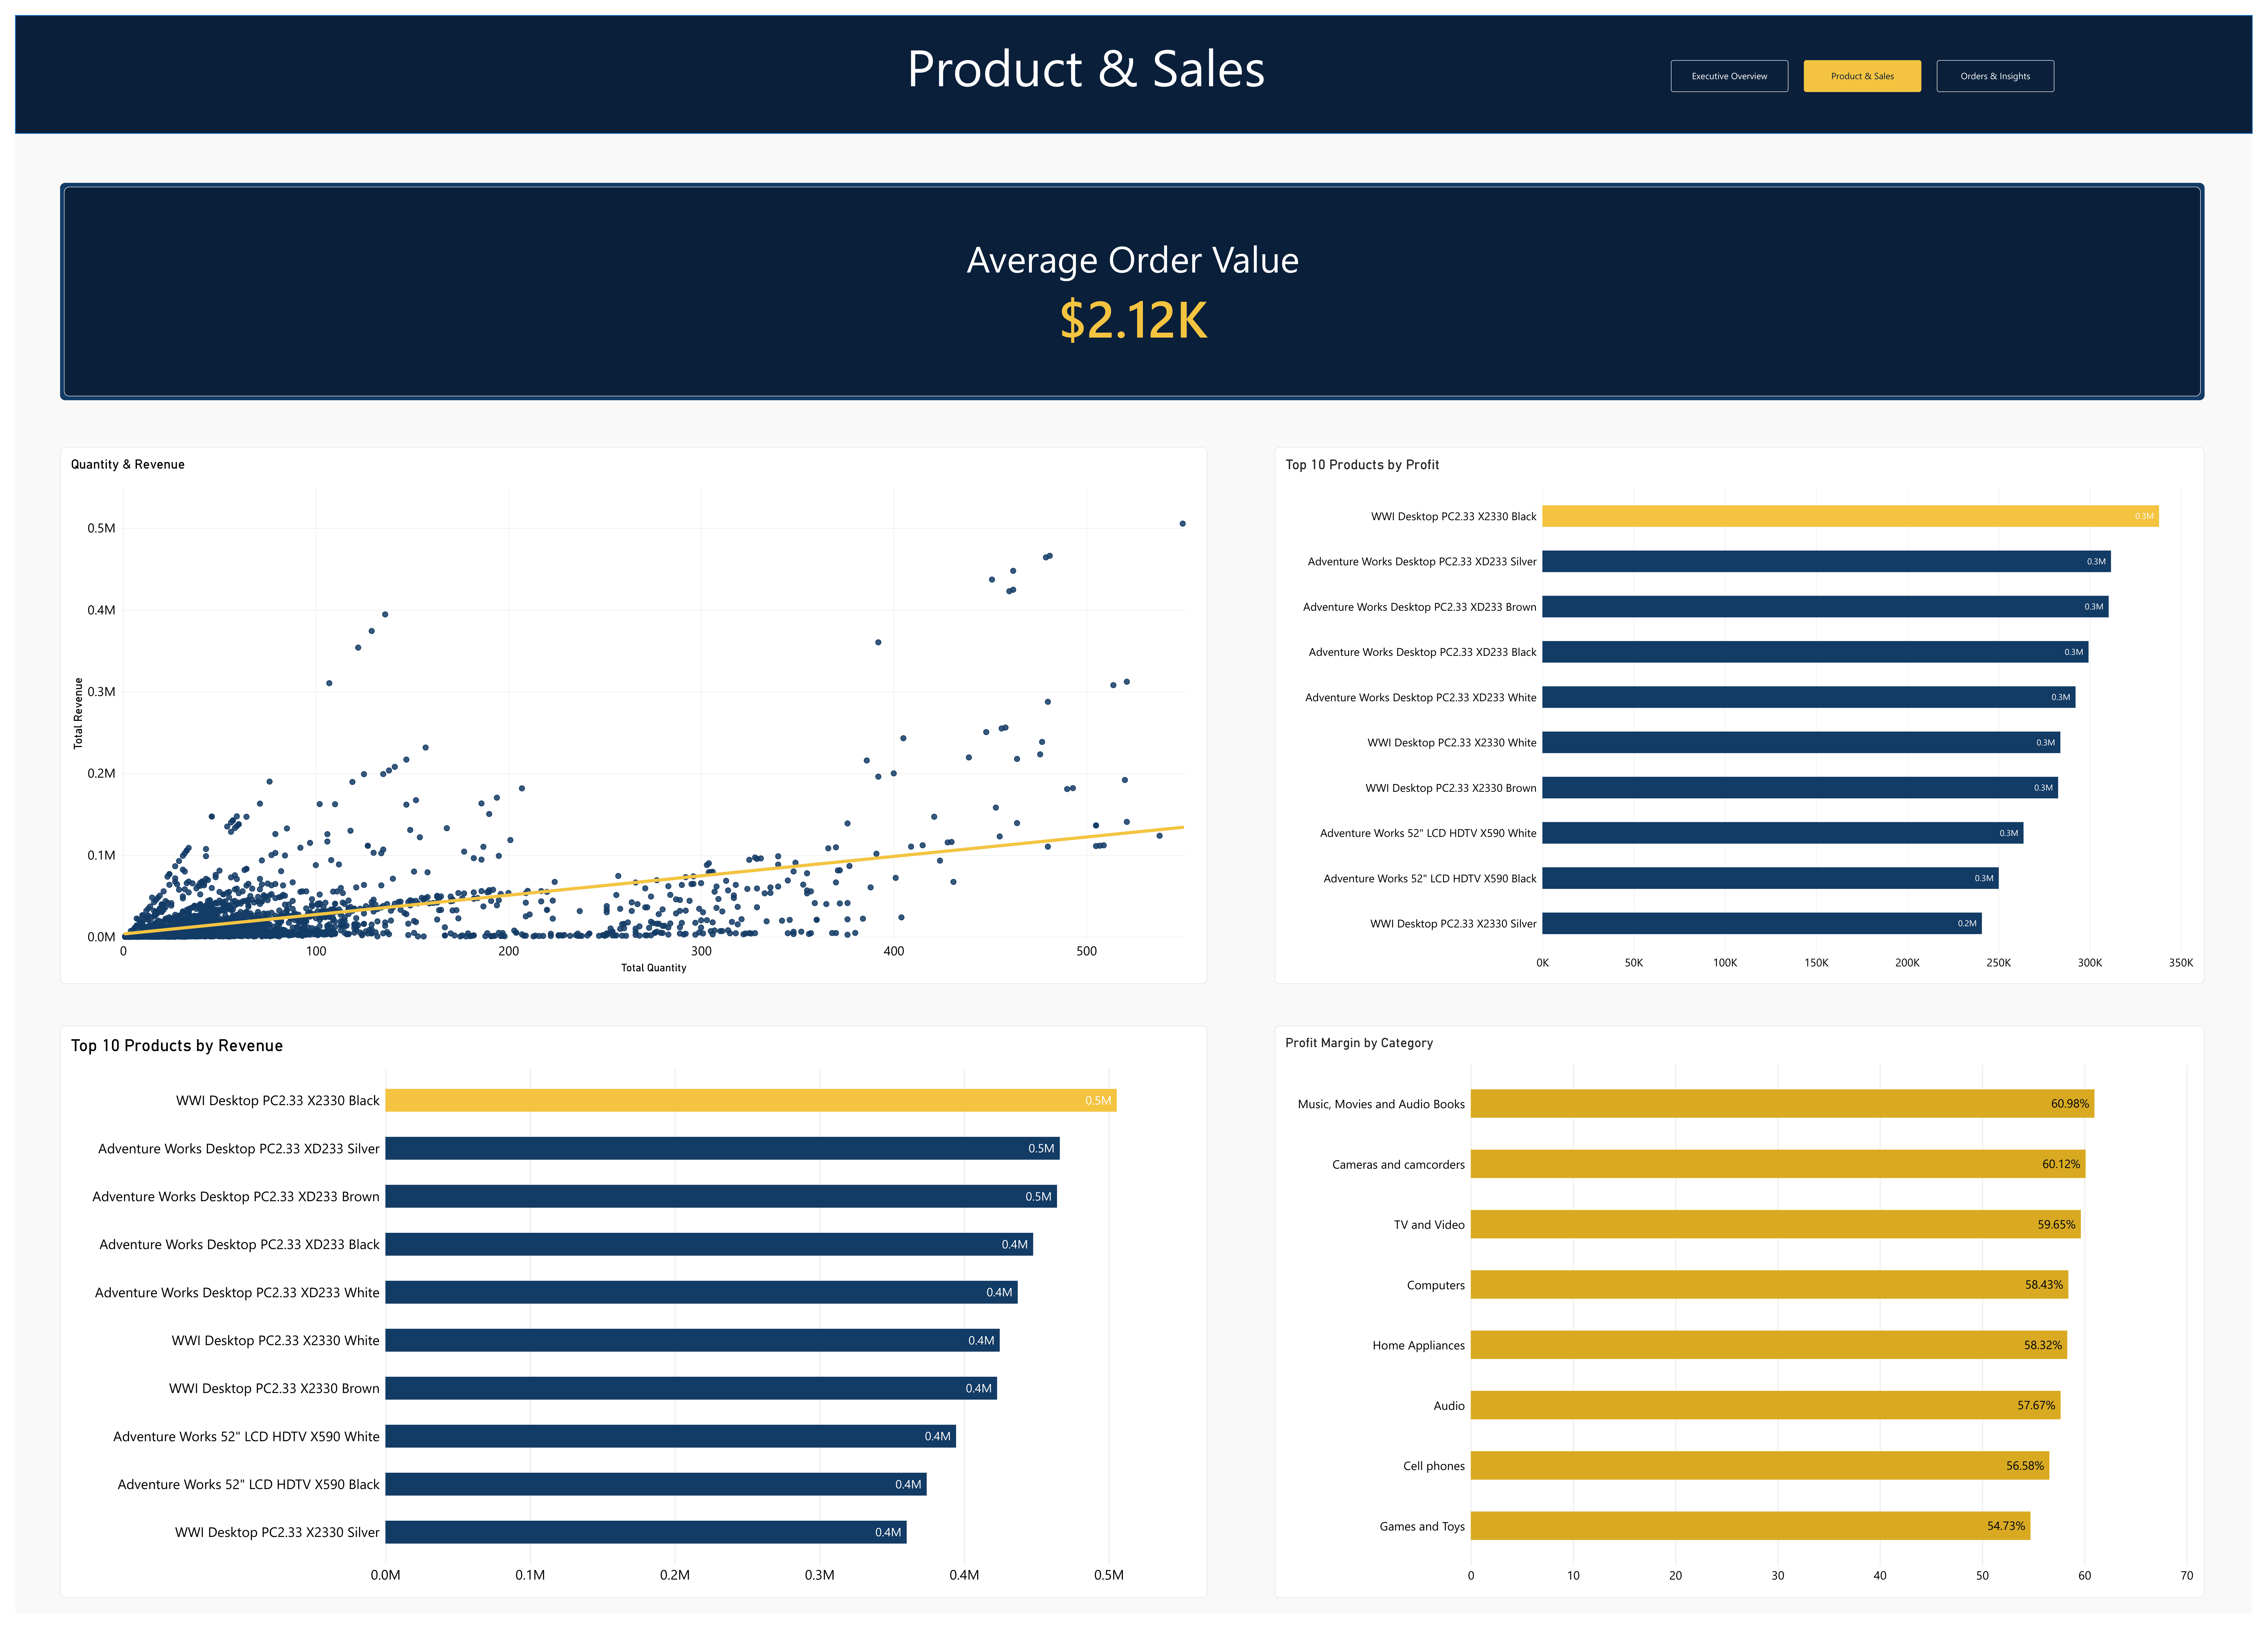

This screenshot's page, from the dashboard's own definition file:
{"tool":"powerbi","page":{"name":"Product & Sales","canvas":[3500,2500],"ordinal":1},"visuals":[{"type":"clusteredBarChart","title":"Top 10 Products by Revenue","fields":{"Category":["Joined Table.Product Name"],"Y":["Joined Table.Total Revenue"]},"box":[70,1580,1795,895],"z":0},{"type":"clusteredBarChart","title":"Top 10 Products by Profit","fields":{"Y":["Joined Table.Total Profit"],"Category":["Joined Table.Product Name"]},"box":[1970,675,1455,840],"z":1000},{"type":"scatterChart","title":"Quantity & Revenue","fields":{"X":["Joined Table.Total Quantity"],"Y":["Joined Table.Total Revenue"],"Category":["Joined Table.Product Name"]},"box":[70,675,1795,840],"z":2000},{"type":"clusteredBarChart","title":"Profit Margin by Category","fields":{"Category":["Joined Table.Category"],"Y":["Joined Table.Gross Profit Margin"]},"box":[1970,1580,1455,895],"z":3000},{"type":"cardVisual","title":"Average Order Value","fields":{"Data":["Joined Table.Average Order Value"]},"box":[70,262,3355,340],"z":4000},{"type":"shape","box":[0,0,3500,185],"z":5000},{"type":"textbox","box":[850,25,1650,135],"z":6000},{"type":"pageNavigator","box":[2590,70,600,50],"z":9000}]}

Visuals, with their boxes on the page's 3500x2500 design canvas (x1, y1, x2, y2). These are canvas units, not pixel positions in the 2268x1629 screenshot, which may show the page scaled, cropped or inside an application window:
"Top 10 Products by Revenue" clusteredBarChart: <bbox>70, 1580, 1865, 2475</bbox>
"Top 10 Products by Profit" clusteredBarChart: <bbox>1970, 675, 3425, 1515</bbox>
"Quantity & Revenue" scatterChart: <bbox>70, 675, 1865, 1515</bbox>
"Profit Margin by Category" clusteredBarChart: <bbox>1970, 1580, 3425, 2475</bbox>
"Average Order Value" cardVisual: <bbox>70, 262, 3425, 602</bbox>
shape: <bbox>0, 0, 3500, 185</bbox>
textbox: <bbox>850, 25, 2500, 160</bbox>
pageNavigator: <bbox>2590, 70, 3190, 120</bbox>
